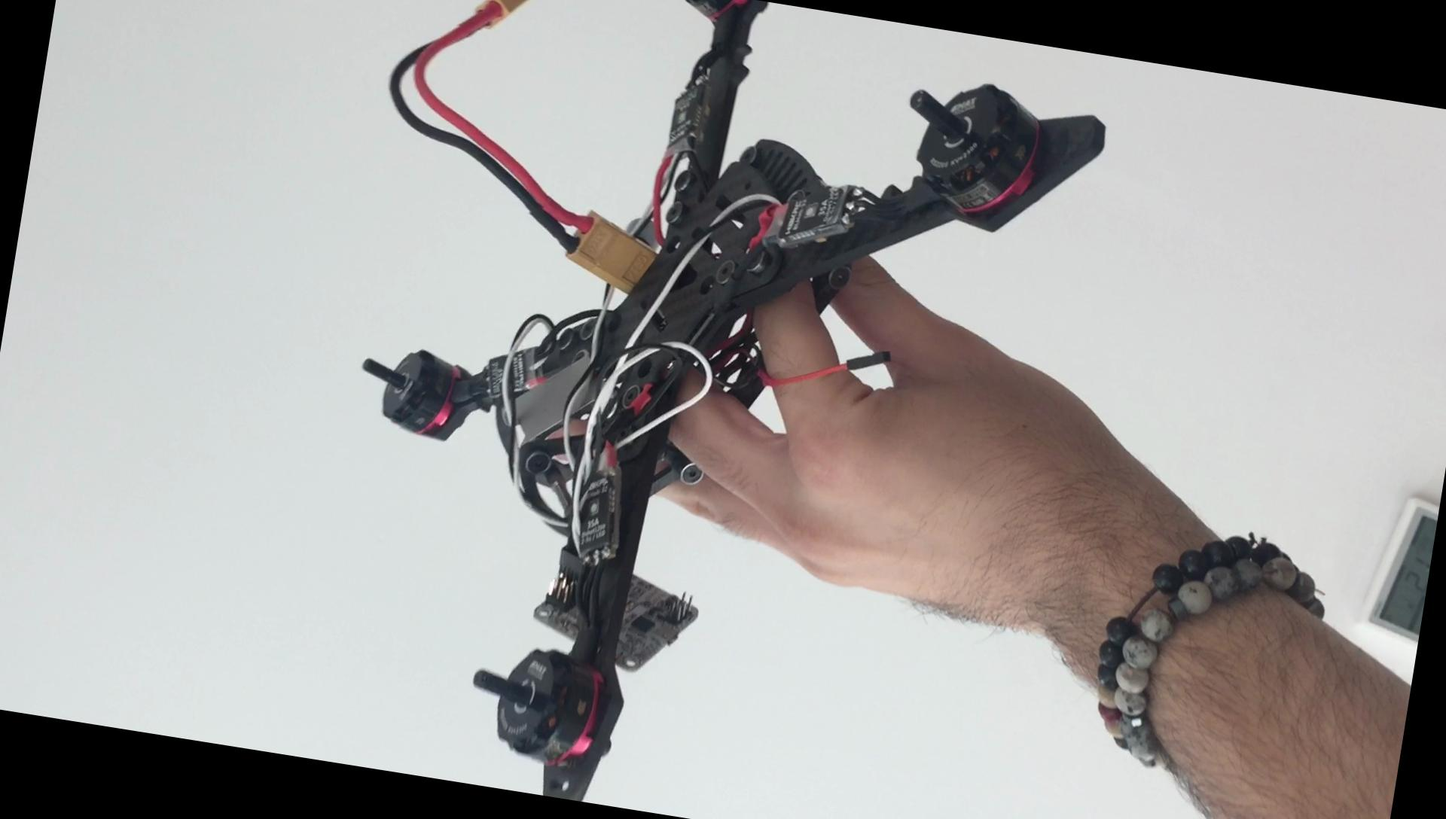drone: (296, 0, 1130, 819)
